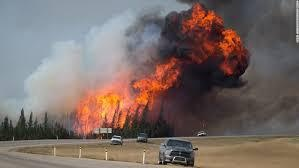fire: (74, 53, 178, 131)
